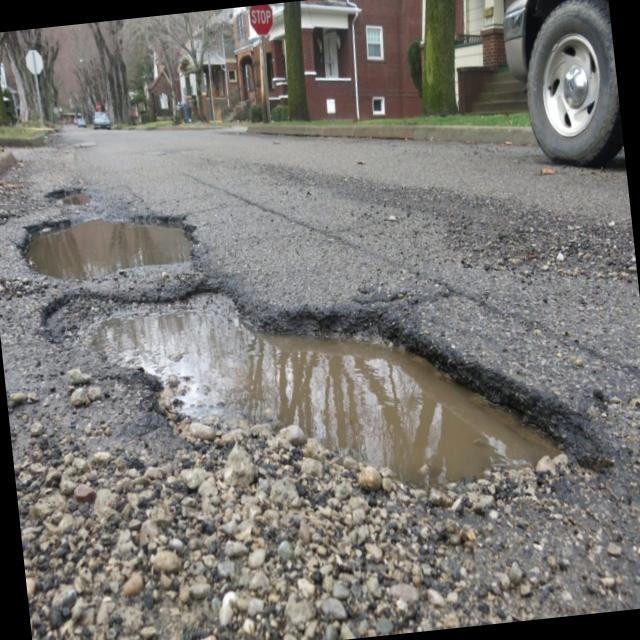Potholes: (34, 232, 626, 552), (17, 189, 231, 320), (40, 175, 93, 206)
